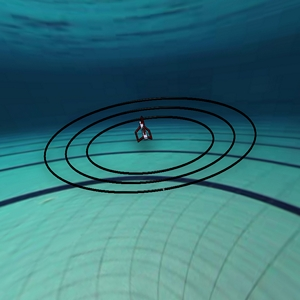circle: (34, 89, 276, 225)
submarine: (126, 116, 175, 155)
